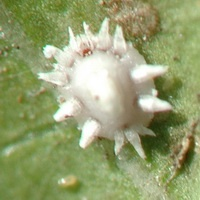insect: (38, 18, 171, 158)
